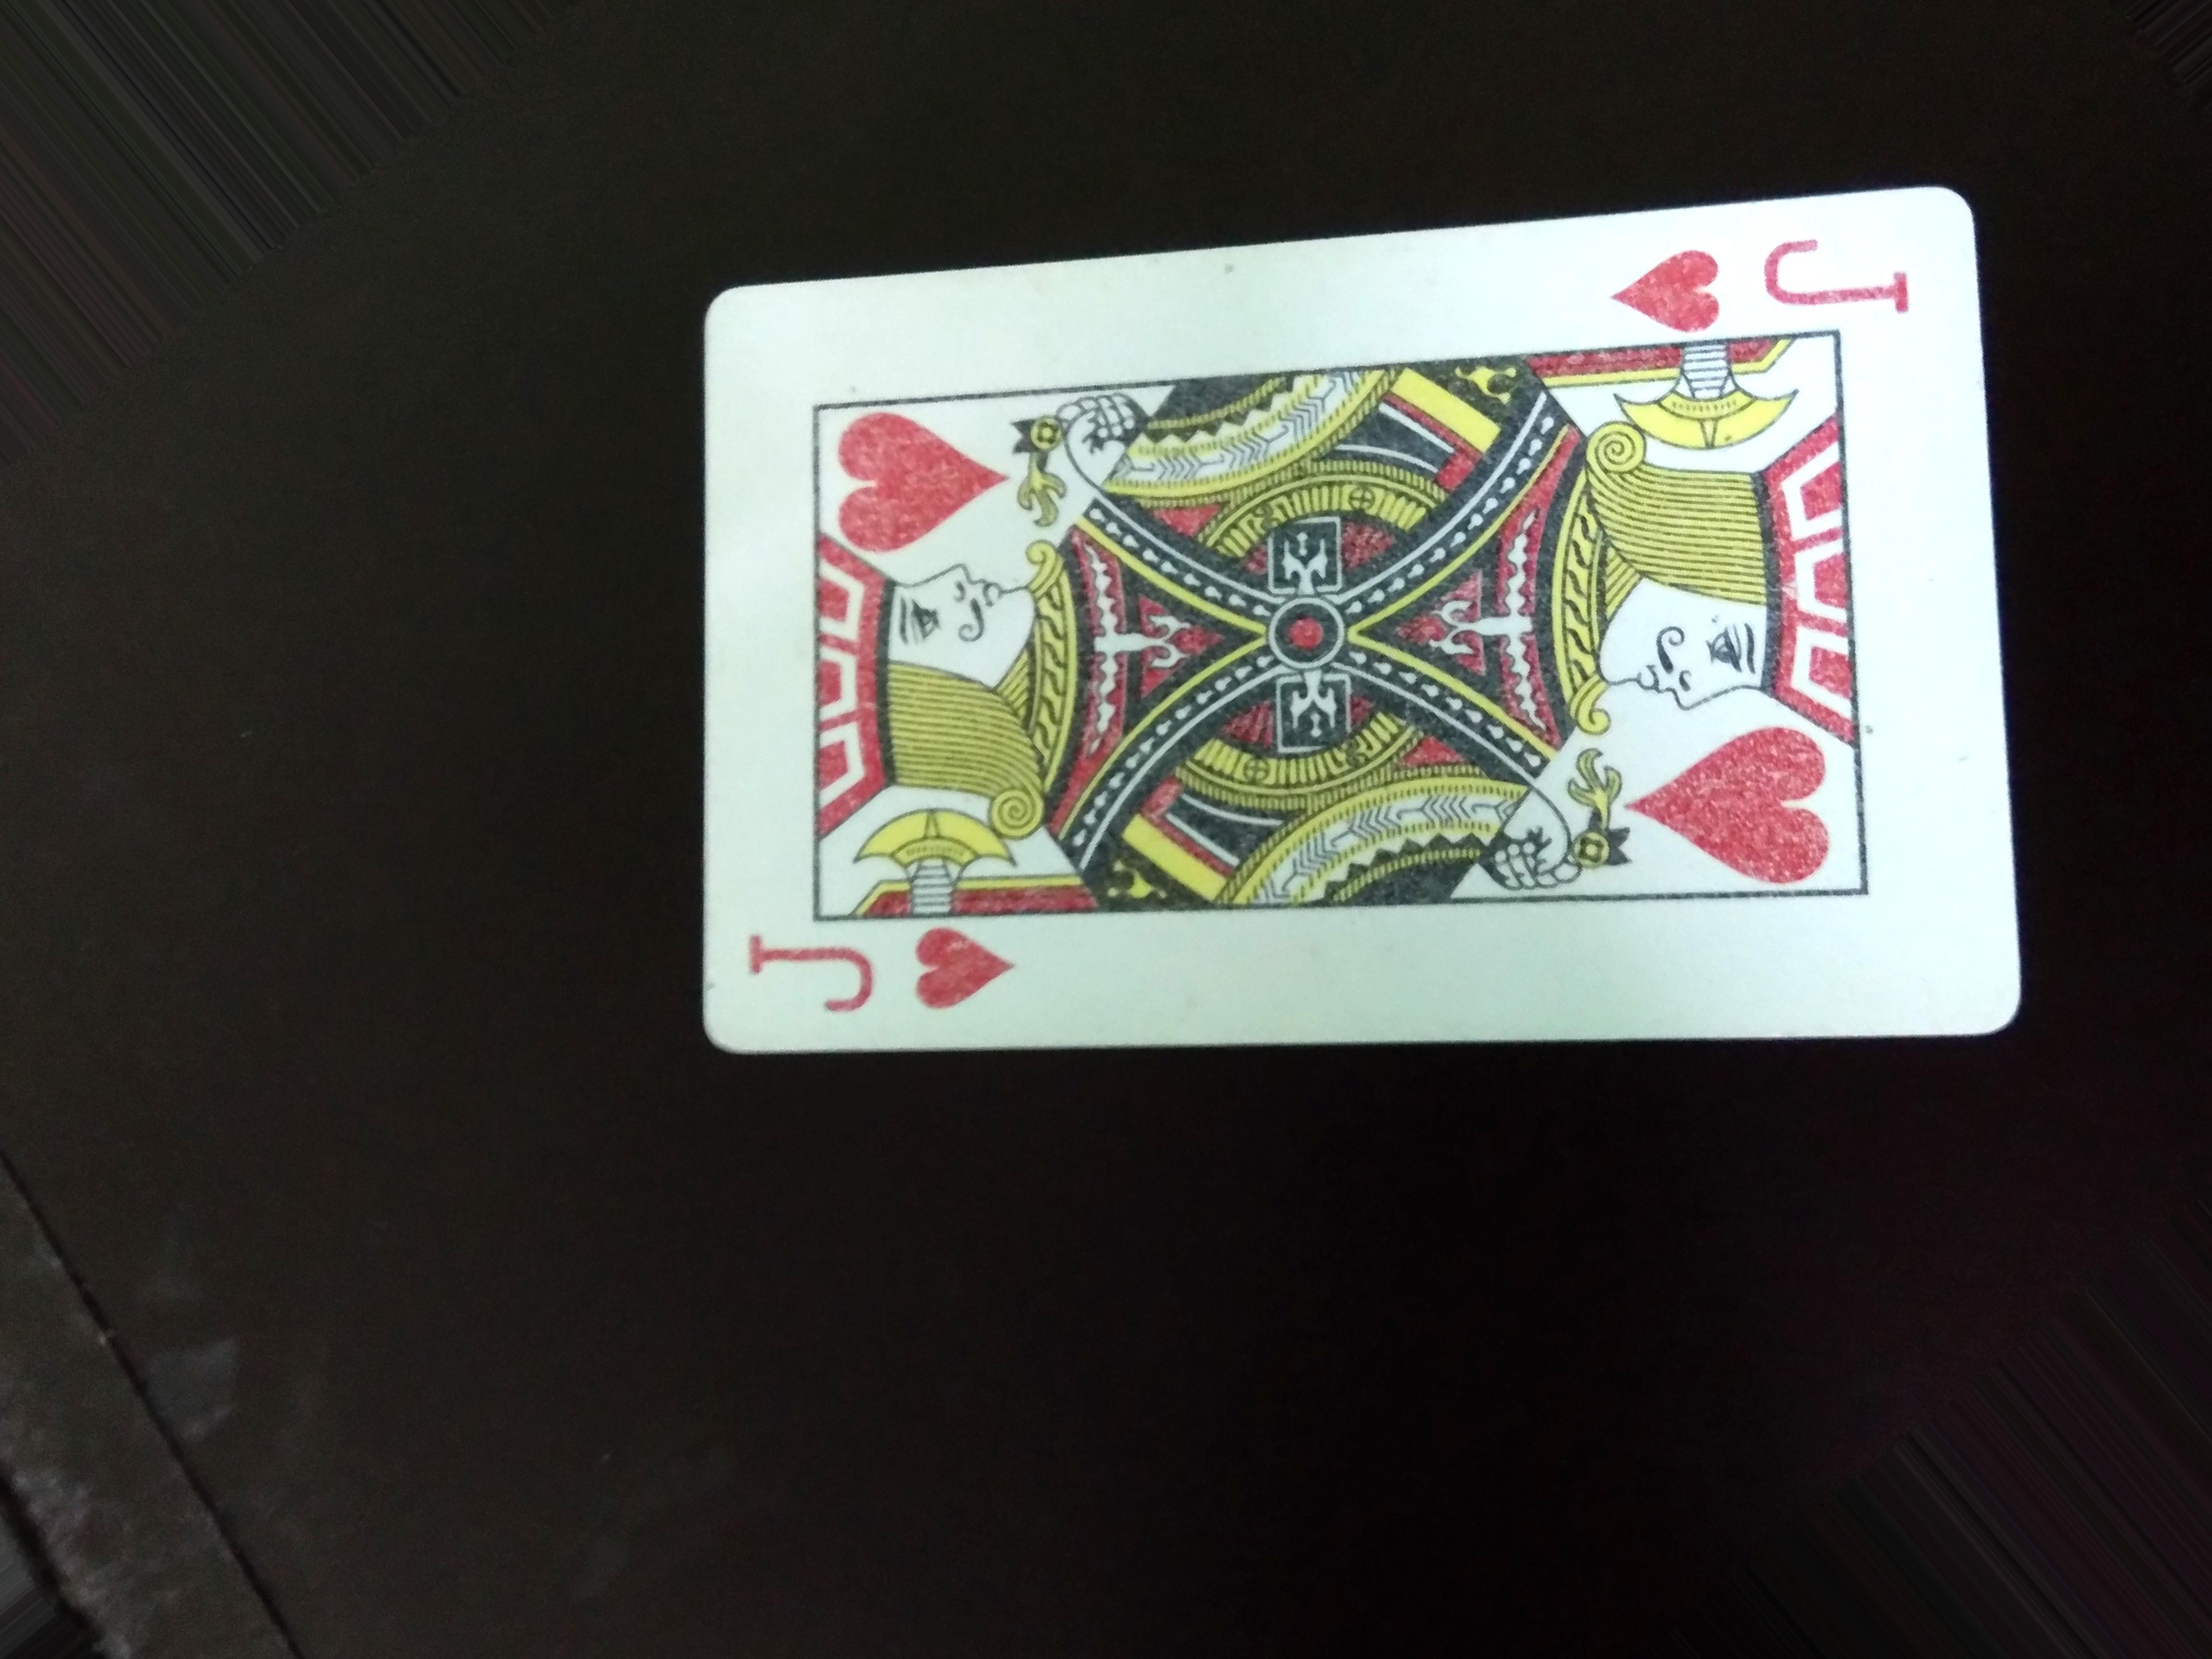JH: (1606, 228, 1932, 338)
